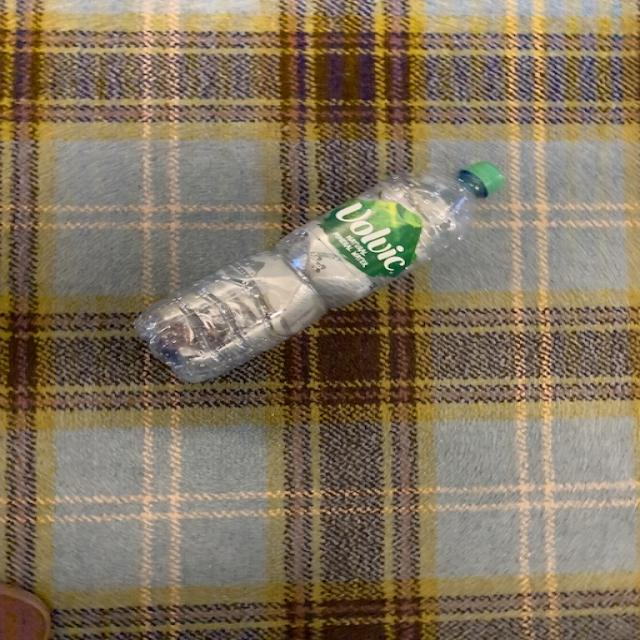Plastic: (135, 162, 506, 383)
